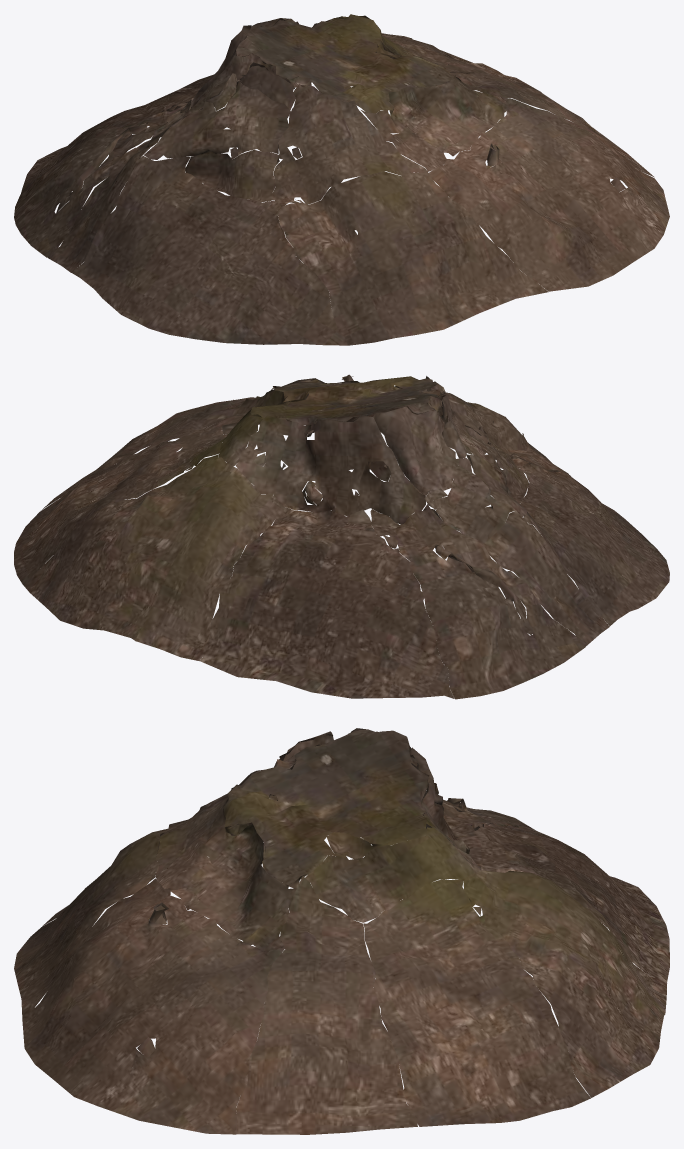
File: kf_stump_b.glb
3 renders of one model, top to bottom at view 1: azimuth 30°, elevation 25°; view 2: azimuth 150°, elevation 25°; view 3: azimuth 270°, elevation 25°, orthographic. The views are drawn at different scales.
Visible parts, largest first — view 1: tree_stump_02; view 2: tree_stump_02; view 3: tree_stump_02.
Part boxes in pixels (x1,y1,x2,y2): tree_stump_02: [14, 14, 669, 345]; tree_stump_02: [14, 374, 669, 699]; tree_stump_02: [14, 728, 669, 1134].
Size of what is drawn, in the model's own units: 1.52 by 0.5201 by 1.39.
Materials: 1 (1 with a texture image).
